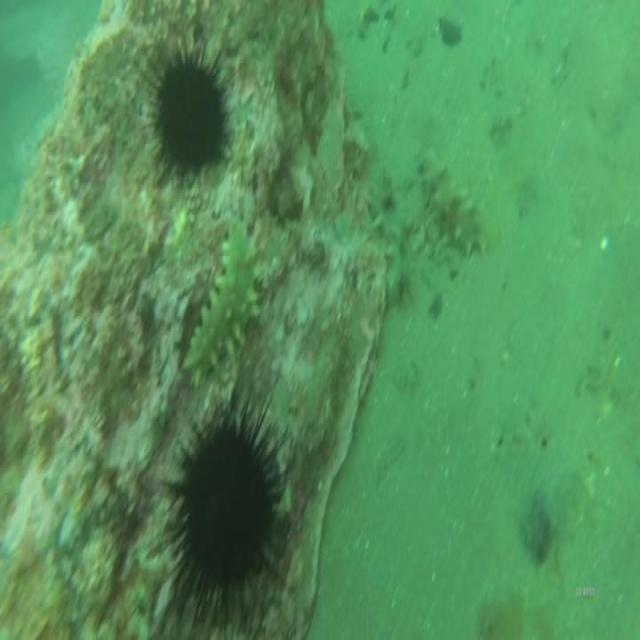echinus: (150, 386, 299, 638), (132, 28, 240, 196)
holothurian: (180, 217, 263, 387), (416, 145, 489, 261), (364, 169, 418, 305)
